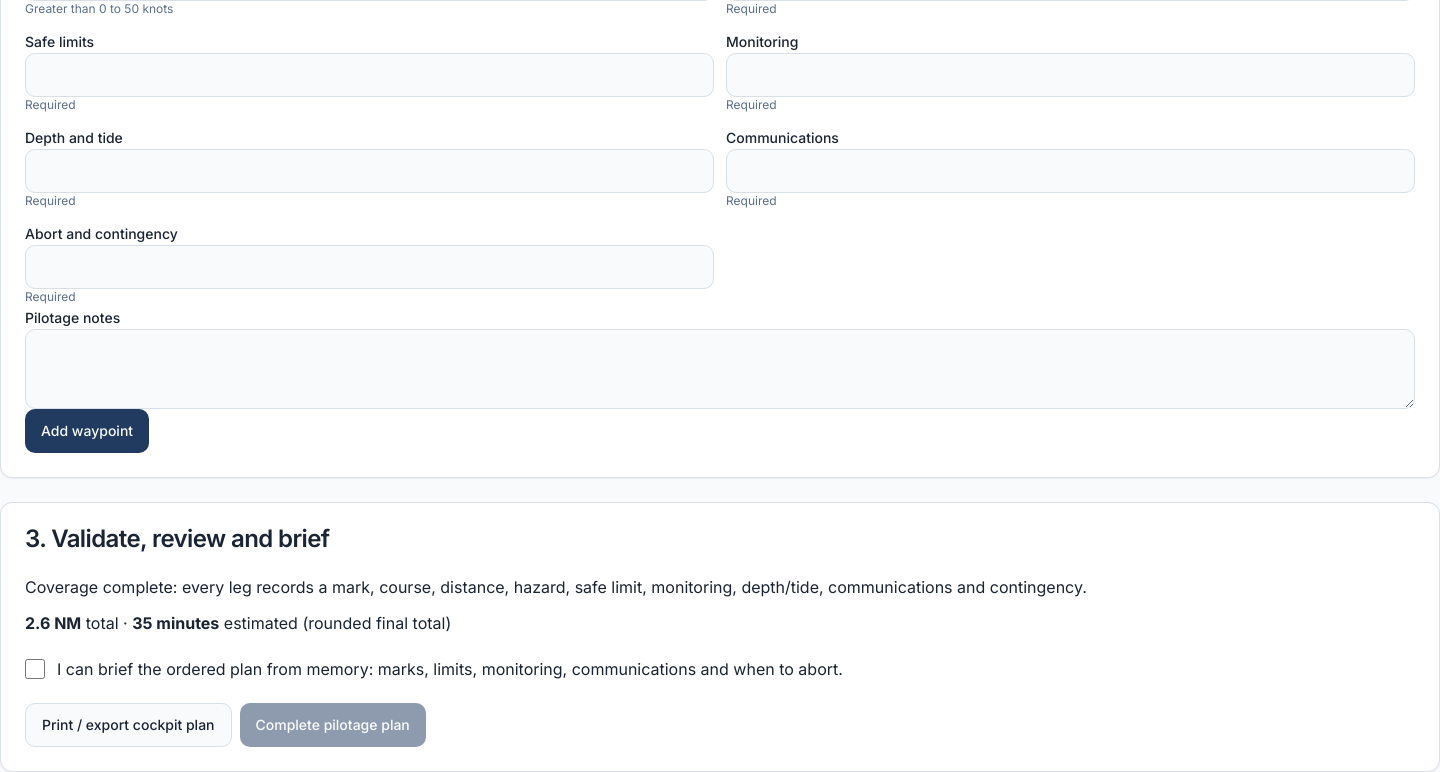
Scenario: PilotagePlanBuilder completion › allows retry when persistence fails and locks only after success
The image size is (1440, 772).
(page scrolled)
Click the checkbox at (35, 669), box 25,659 -> 45,679
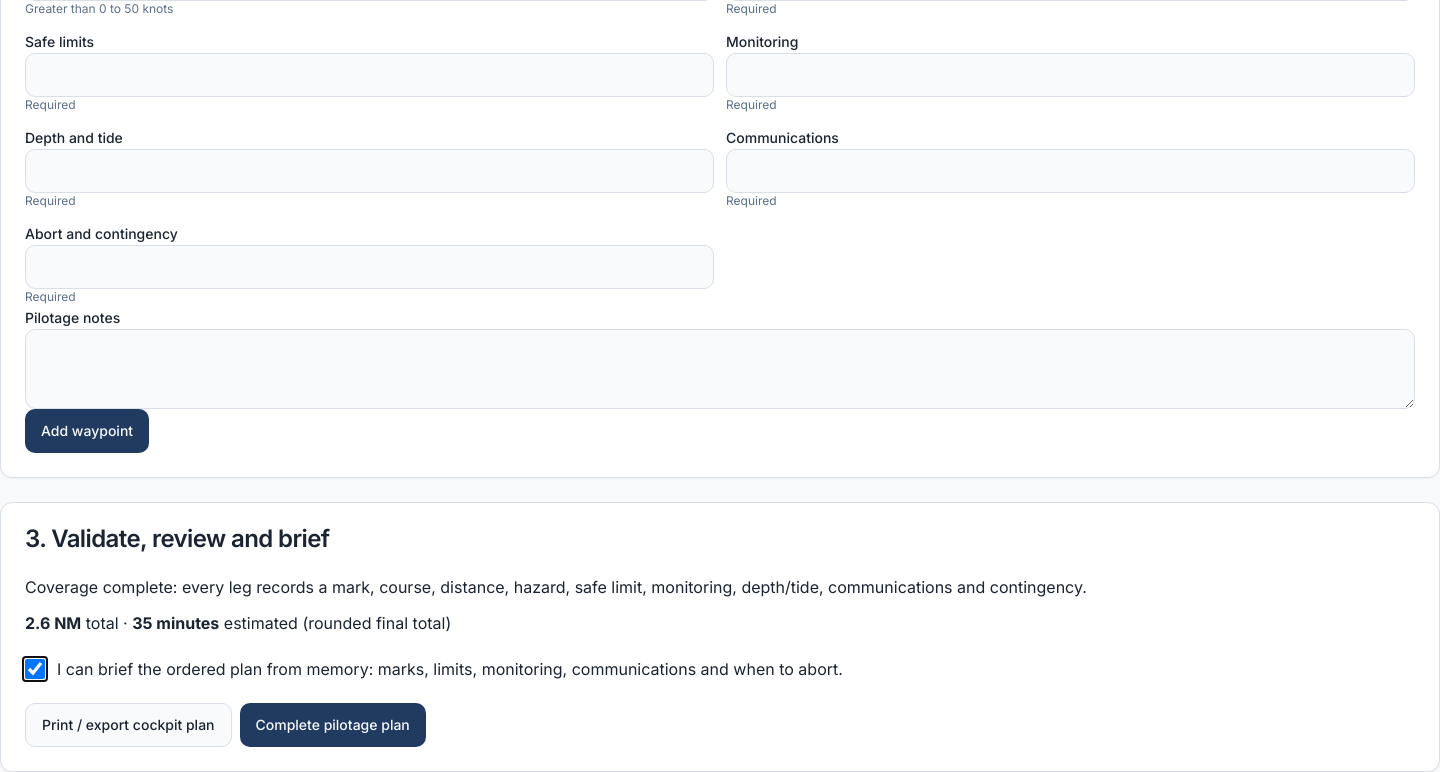
Click the button "Complete pilotage plan" at (333, 725), box 240,703 -> 426,747
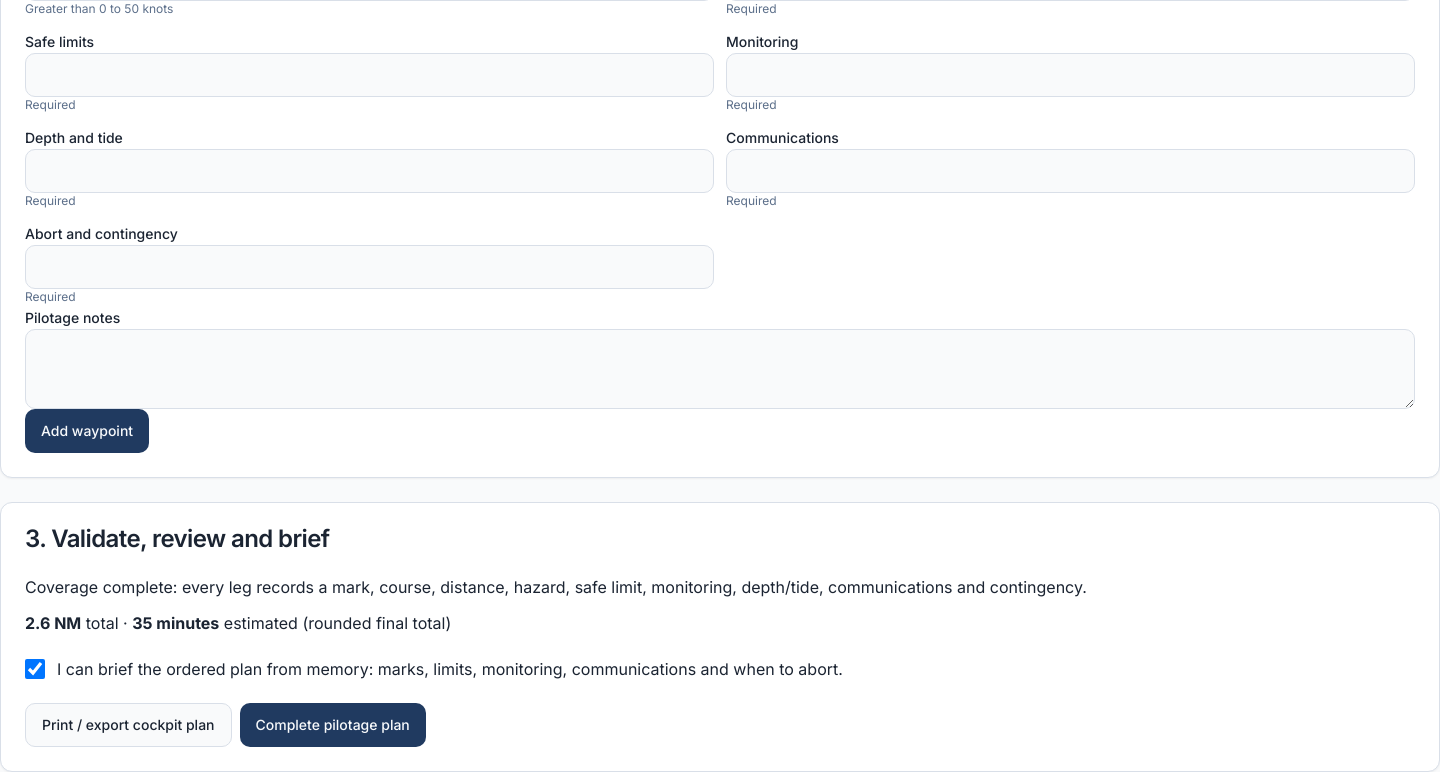
Expected: the button "Complete pilotage plan" is enabled
Click the button "Complete pilotage plan" at (333, 725), box 240,703 -> 426,747
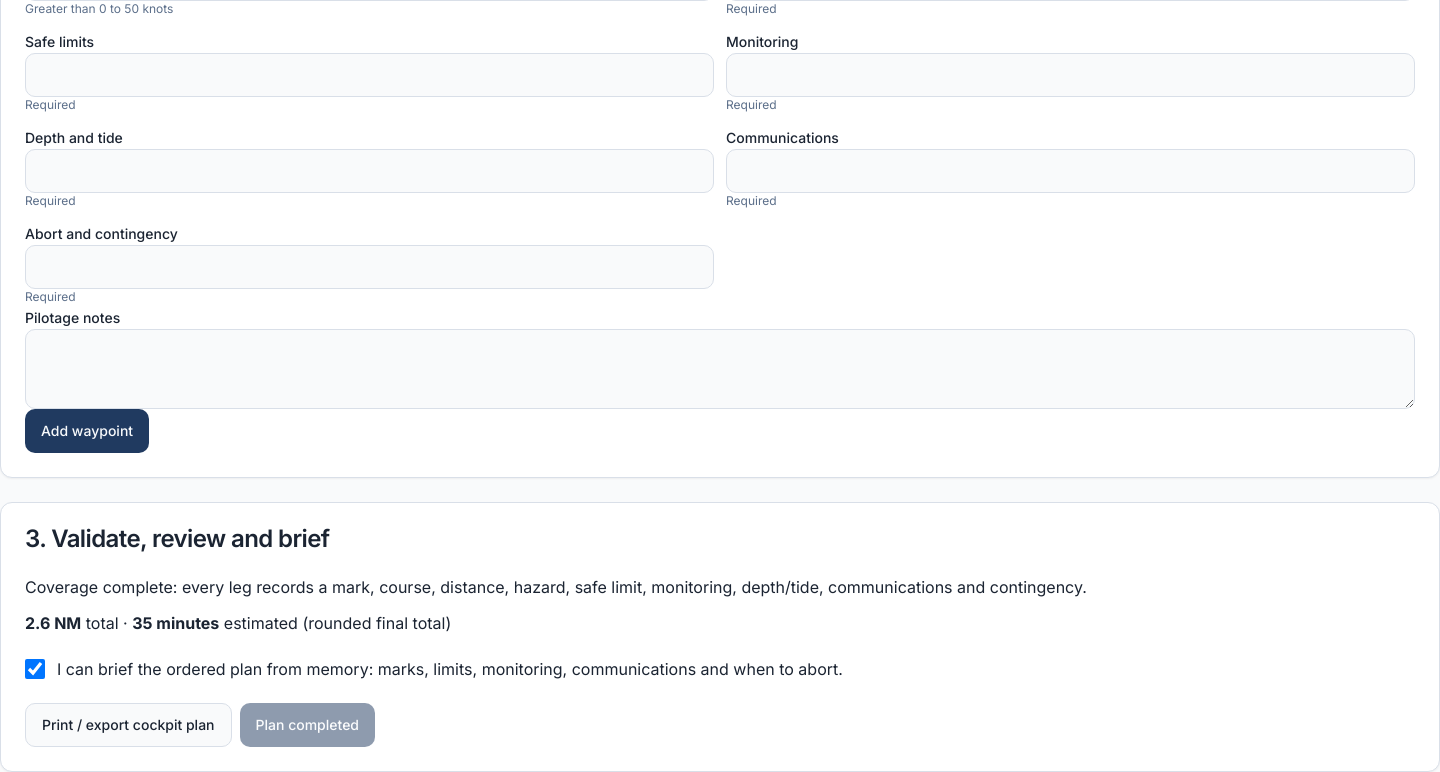
Expected: the button "Plan completed" is disabled, 240,703 -> 375,747
